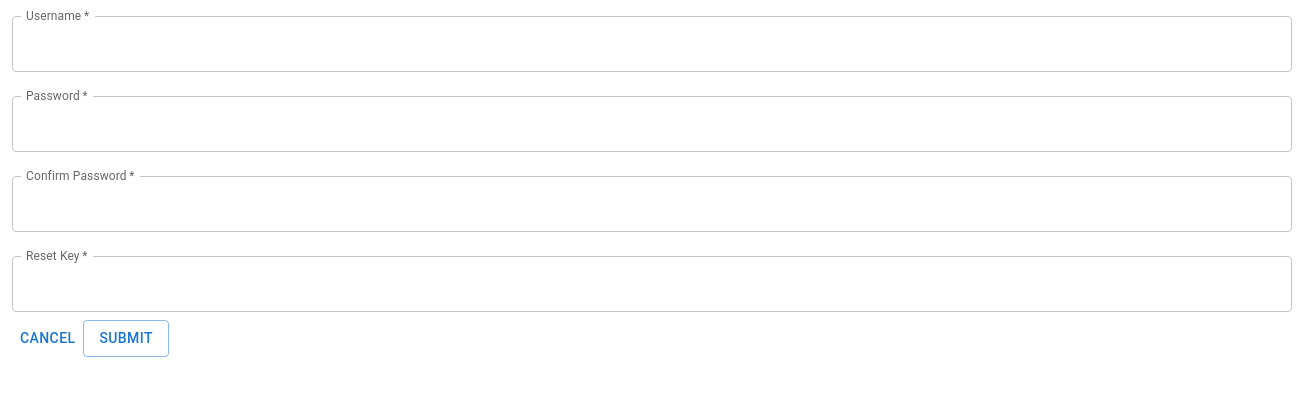
Test: Reset Password Form › displays errors and does not submit the form with unmatched passwords
The width and height of the screenshot is (1304, 396).
Type "myUsername" into the field labelled "Username" at {"x": 652, "y": 44}, box [12,16,1292,72]
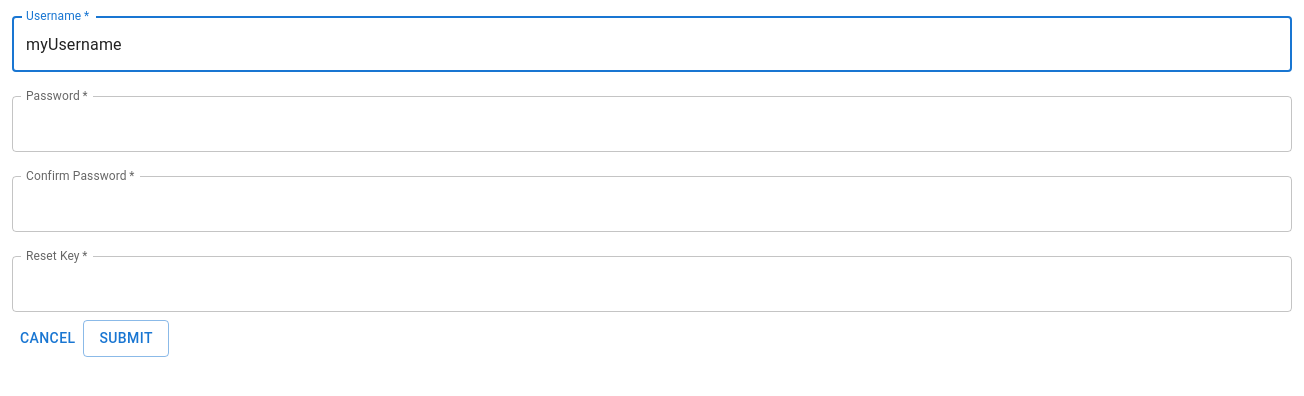
Type "thisIsMyPassword" into the element with test id "pw" at {"x": 652, "y": 124}, box [12,96,1292,152]
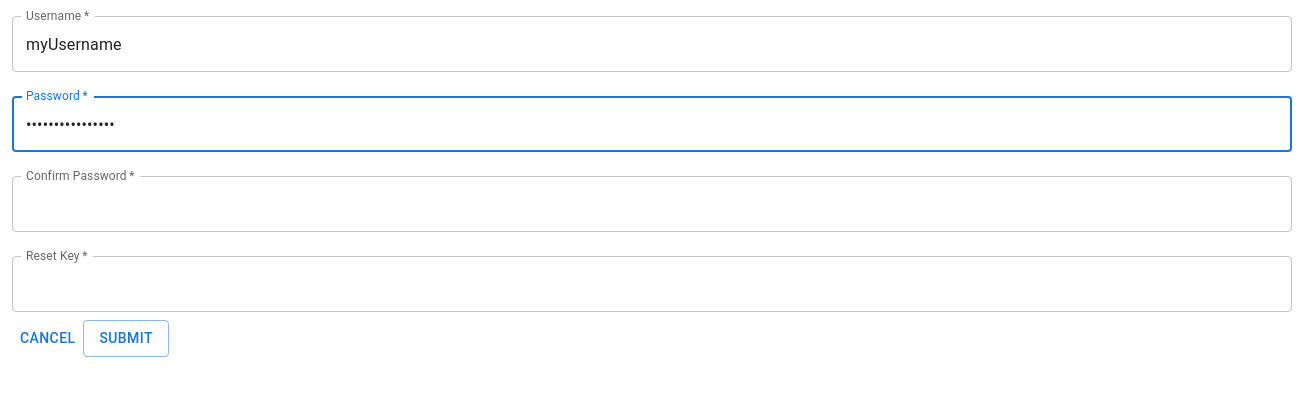
Type "thisIsMyConfirmedPassword" into the element with test id "confirm-pw" at {"x": 652, "y": 204}, box [12,176,1292,232]
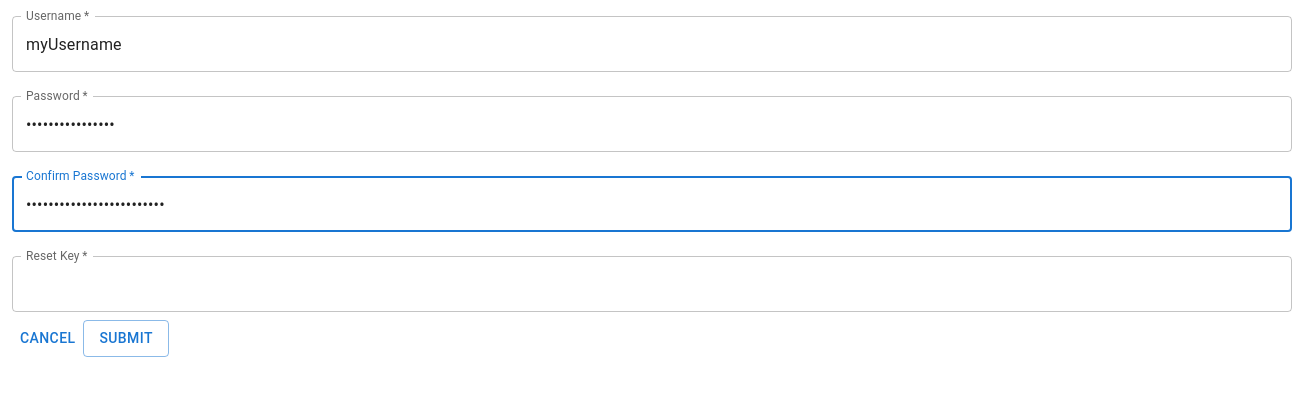
Type "myResetKey" into the field labelled "Reset Key" at {"x": 652, "y": 284}, box [12,256,1292,312]
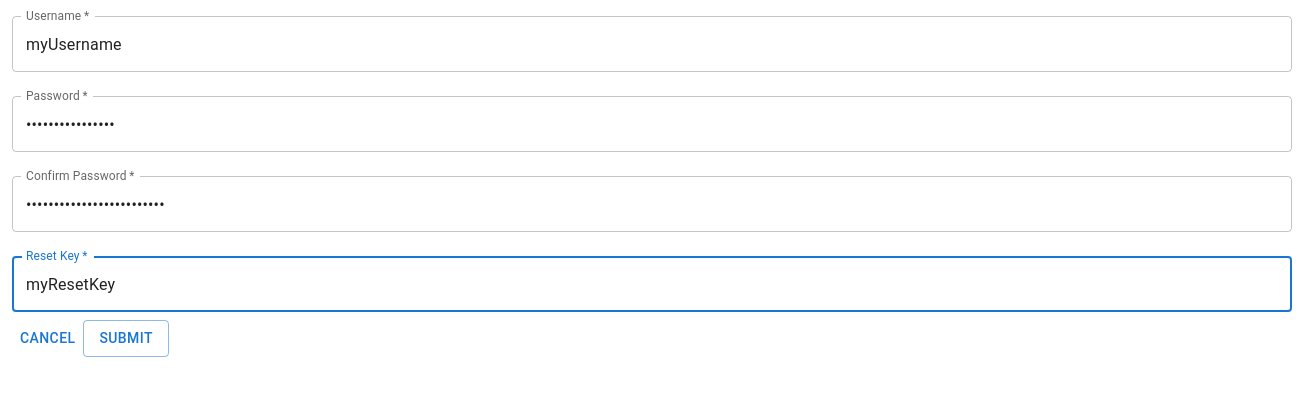
Click the button "Submit" at {"x": 126, "y": 338}, box [84,320,169,356]
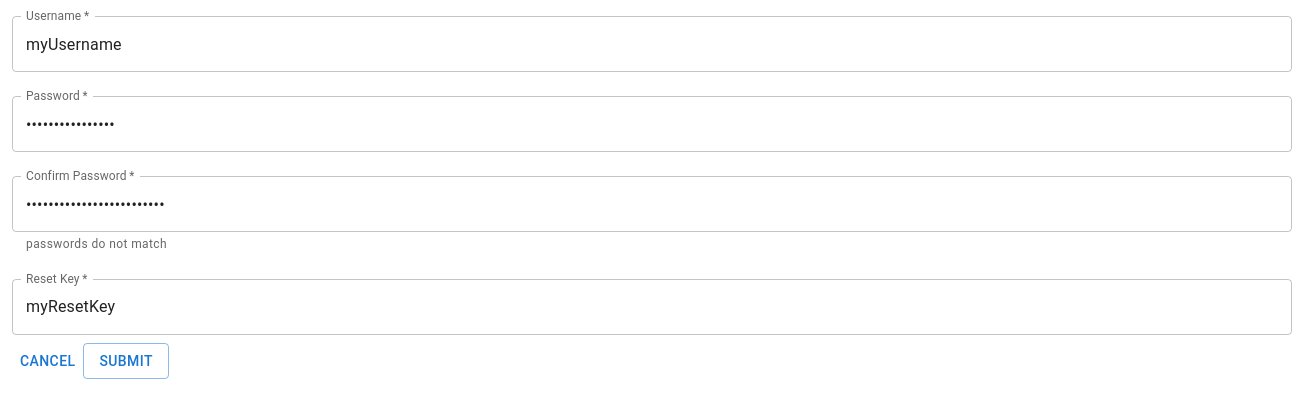
Expected: the text "passwords do not match" is shown, [26,237,167,251]
